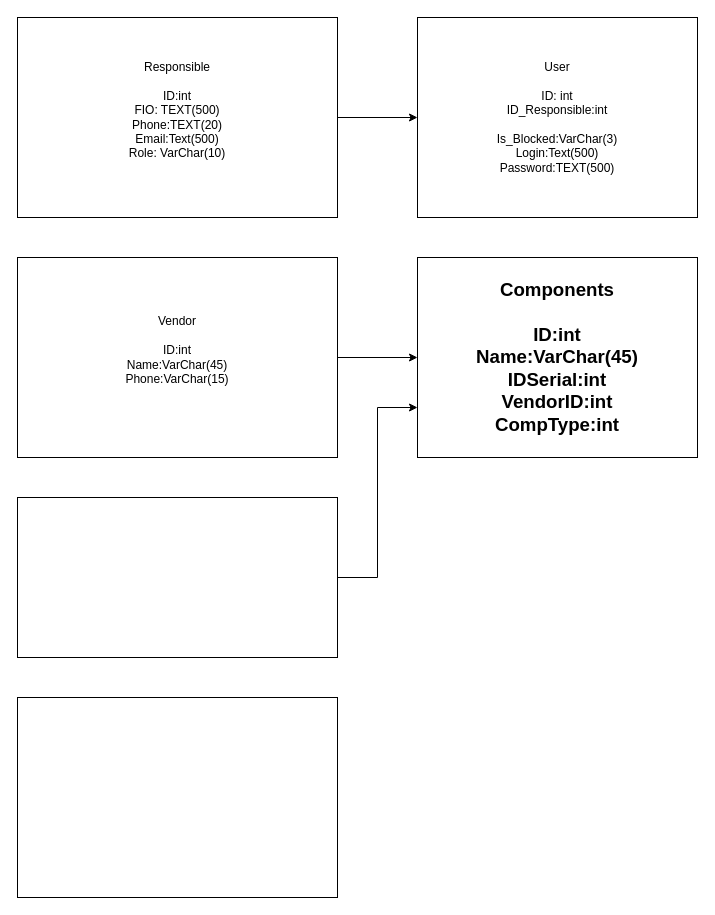
Image size: 715x915. Some labels were removed from this diagram. The centre of each missing label's shape, as x and y in pixels:
"CompType ID:int type:int ID_type:int" belongs at point 177,577.
"ID_Type ID:" belongs at point 177,797.
